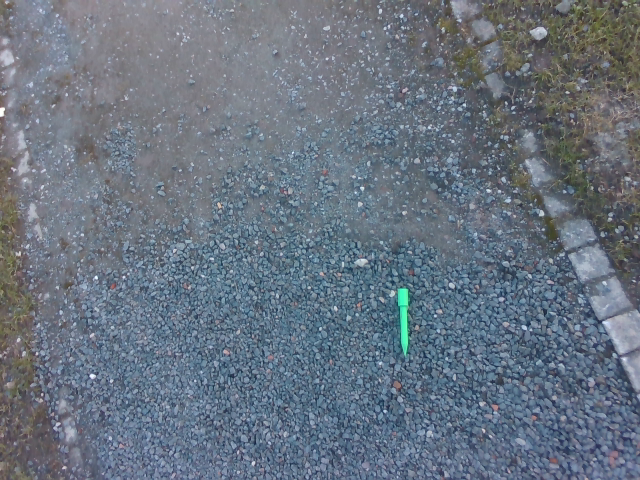Probe: (394, 283, 411, 360)
